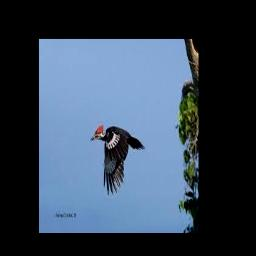Woodpecker: (91, 124, 145, 195)
